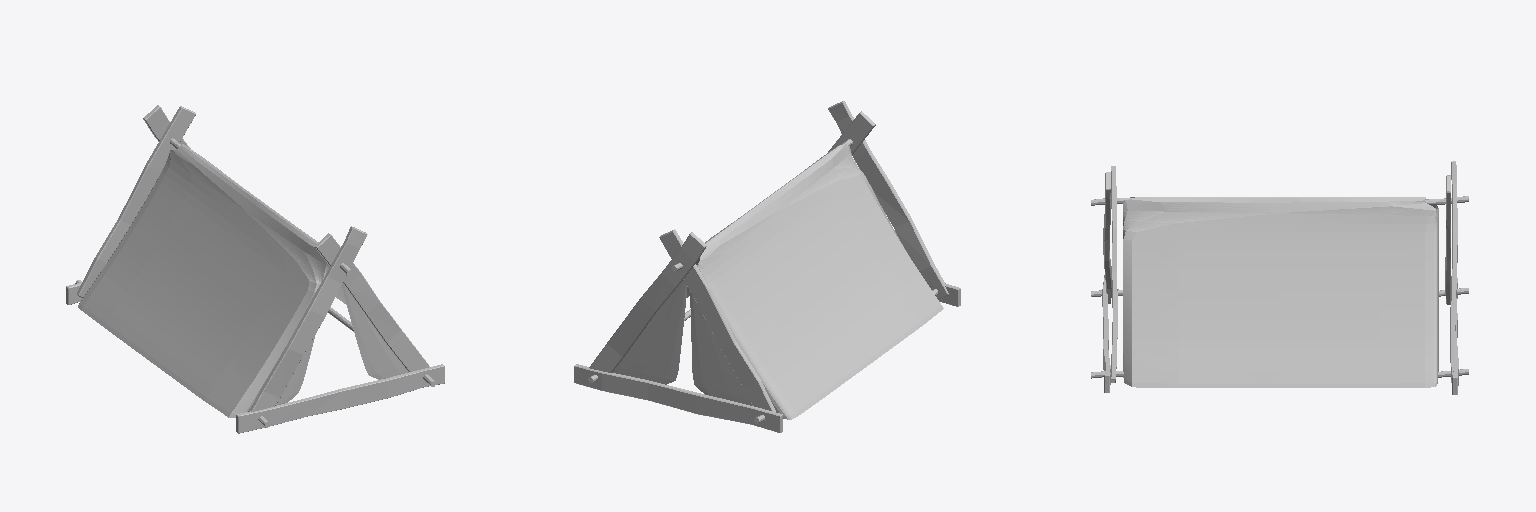
The model's file is highpoly_viking_tent_005.obj.
3 views of the same model, side by side, from view 1: azimuth 30°, elevation 25°; view 2: azimuth 150°, elevation 25°; view 3: azimuth 270°, elevation 25° (orthographic).
Visible parts, largest first — view 1: Plane.005, Cube.020, Cube.018, Cube.019, Cube.021, Cube.022; view 2: Plane.005, Cube.023, Cube.020, Cube.022, Cube.019, Cube.021; view 3: Plane.005, Cube.022, Cube.021, Cube.020, Cube.019, Cube.018.
Boxes of the visible parts, box(x1,y1,x2,y2) form: Plane.005: box(78, 144, 408, 417); Cube.020: box(249, 226, 367, 411); Cube.018: box(236, 364, 444, 433); Cube.019: box(77, 106, 195, 297); Cube.021: box(315, 233, 429, 371); Cube.022: box(143, 105, 190, 149); Plane.005: box(612, 143, 943, 419); Cube.023: box(574, 364, 782, 432); Cube.020: box(828, 101, 948, 299); Cube.022: box(589, 232, 706, 372); Cube.019: box(659, 229, 775, 411); Cube.021: box(828, 111, 875, 154); Plane.005: box(1123, 197, 1438, 387); Cube.022: box(1450, 161, 1457, 382); Cube.021: box(1111, 166, 1117, 382); Cube.020: box(1103, 172, 1111, 303); Cube.019: box(1445, 175, 1450, 304); Cube.018: box(1102, 275, 1110, 392).
Bounding box in the file's own units: 5.74 × 4.64 × 8.92.